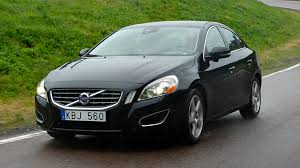car: (35, 19, 263, 144)
